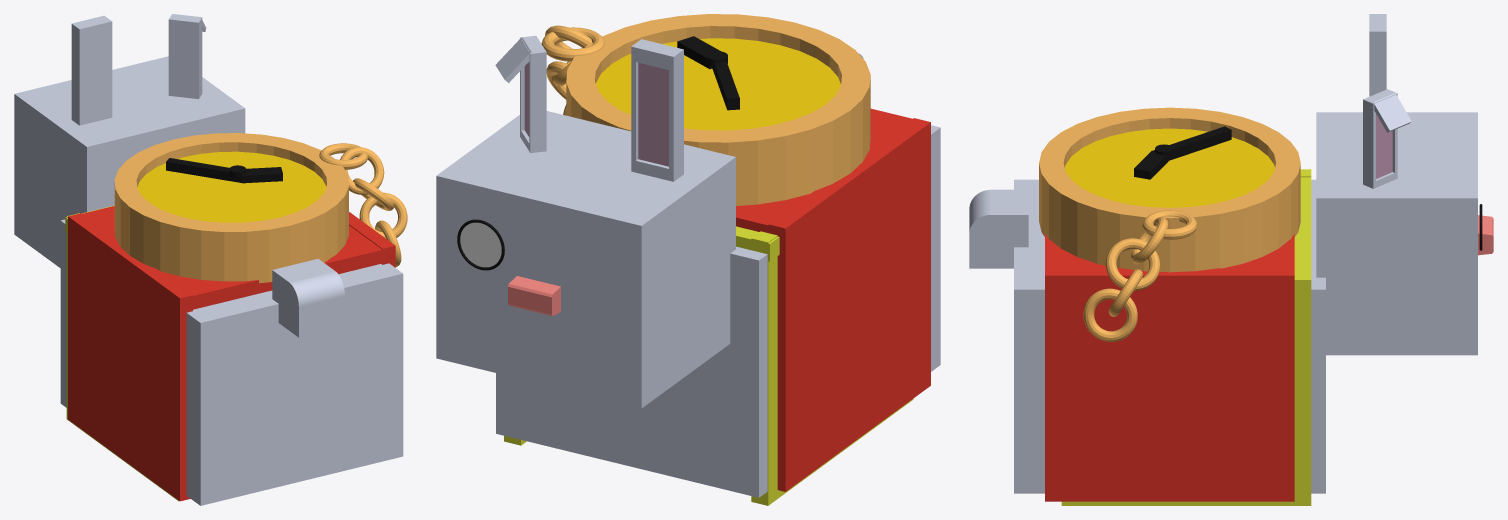
The model's file is rabbit_v3.fbx.
3 views of the same model, side by side, from view 1: azimuth 30°, elevation 25°; view 2: azimuth 150°, elevation 25°; view 3: azimuth 270°, elevation 25° (orthographic). The views are drawn at different scales.
Parts seen in each view (by area): view 1: Cube, Cylinder, Cube.007, Cube.001, Cube.002, Cube.004, Cube.006, Cube.003, Cube.011, Torus.004, Torus.002, Torus.001 (+3 smaller); view 2: Cube.001, Cube.007, Cylinder, Cube, Cube.004, Cube.009, Cube.003, Cube.006, Cube.005, Circle, Torus.001, Cube.010 (+4 smaller); view 3: Cube.007, Cube.001, Cylinder, Cube, Cube.009, Cube.002, Cube.003, Cube.006, Cube.004, Torus.005, Cube.008, Torus.003 (+6 smaller).
Part boxes in pixels (x1,y1,x2,y2): Cube: [60, 219, 403, 505]; Cylinder: [114, 133, 348, 283]; Cube.007: [68, 212, 395, 501]; Cube.001: [14, 56, 245, 267]; Cube.002: [272, 258, 344, 337]; Cube.004: [71, 15, 112, 125]; Cube.006: [82, 206, 384, 309]; Cube.003: [168, 14, 202, 99]; Cube.011: [166, 158, 242, 182]; Torus.004: [359, 192, 407, 238]; Torus.002: [340, 147, 384, 194]; Torus.001: [319, 143, 367, 169]; Cube.001: [436, 111, 735, 408]; Cube.007: [768, 118, 930, 491]; Cylinder: [566, 14, 870, 205]; Cube: [496, 125, 940, 497]; Cube.004: [631, 39, 683, 181]; Cube.009: [504, 231, 913, 505]; Cube.003: [520, 35, 546, 153]; Cube.006: [736, 108, 912, 233]; Cube.005: [508, 276, 560, 315]; Circle: [460, 222, 501, 267]; Torus.001: [541, 27, 604, 61]; Cube.010: [495, 37, 531, 82]; Cube.007: [1045, 268, 1294, 501]; Cube.001: [1316, 112, 1477, 355]; Cylinder: [1039, 107, 1300, 272]; Cube: [1014, 179, 1325, 493]; Cube.009: [1061, 169, 1311, 505]; Cube.002: [969, 189, 1028, 268]; Cube.003: [1363, 89, 1397, 188]; Cube.006: [1045, 234, 1294, 268]; Cube.004: [1369, 14, 1386, 96]; Torus.005: [1083, 288, 1137, 341]; Cube.008: [1294, 177, 1311, 272]; Torus.003: [1105, 238, 1160, 290].
Size of the model in its own units: 56.45 by 74.82 by 88.34.
